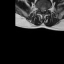CCS_normal: (42, 8, 43, 14)
LFS_severe_stenosis: (45, 7, 47, 12)
LLS_normal: (43, 8, 45, 13)
RFS_stenosis: (38, 6, 40, 11)
RLS_normal: (40, 8, 42, 13)
